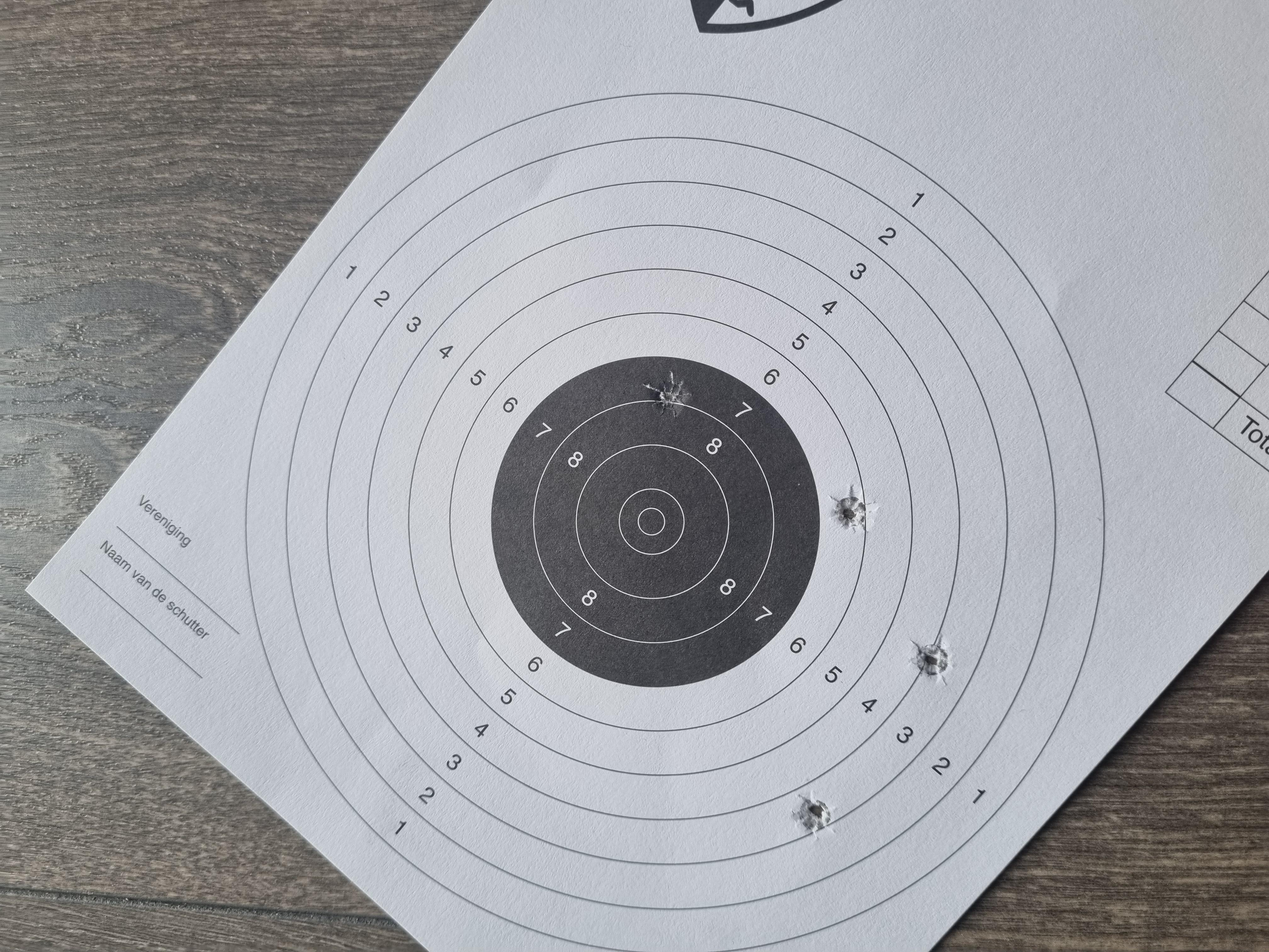hole: (713, 481, 773, 518), (353, 683, 423, 712), (561, 621, 622, 651), (159, 597, 211, 623)
